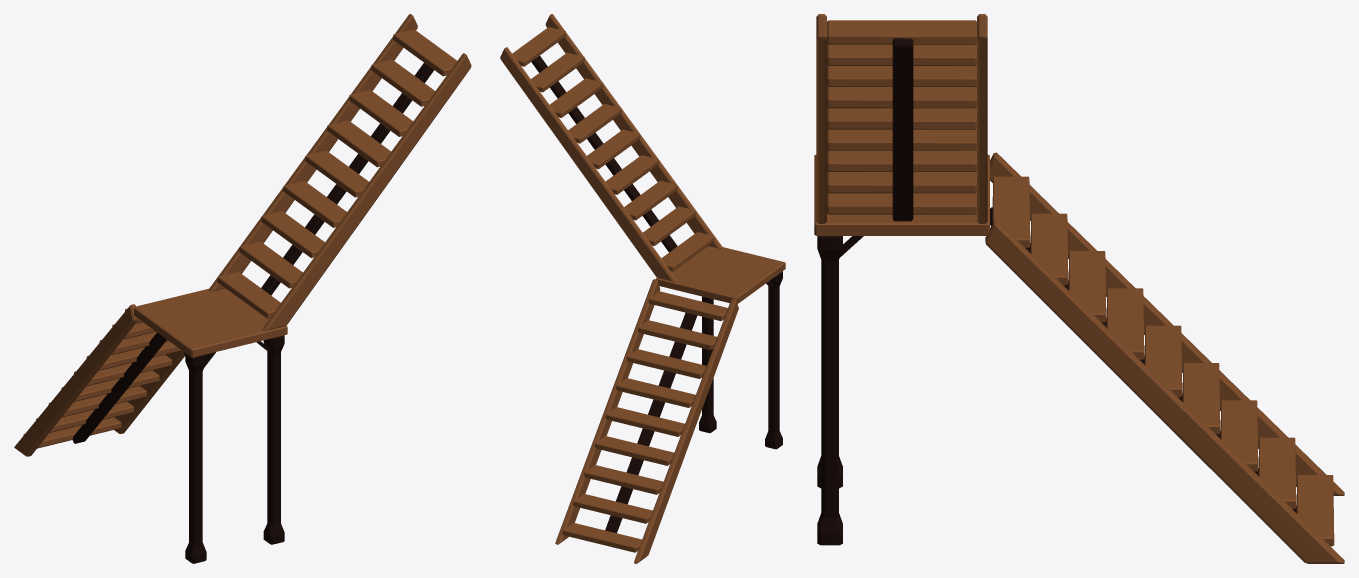
The model's file is ww_corner_stairs.glb.
3 renders of one model, left to right at view 1: azimuth 30°, elevation 25°; view 2: azimuth 150°, elevation 25°; view 3: azimuth 270°, elevation 25°, orthographic. The views are drawn at different scales.
Visible parts, largest first — view 1: Corner_Stairs; view 2: Corner_Stairs; view 3: Corner_Stairs.
Boxes of the visible parts, left/top/right/bottom form: Corner_Stairs: left=14, top=14, right=471, bottom=563; Corner_Stairs: left=500, top=14, right=785, bottom=563; Corner_Stairs: left=814, top=14, right=1344, bottom=563.
Size of the model in its own units: 4.57 by 7.02 by 4.96.
